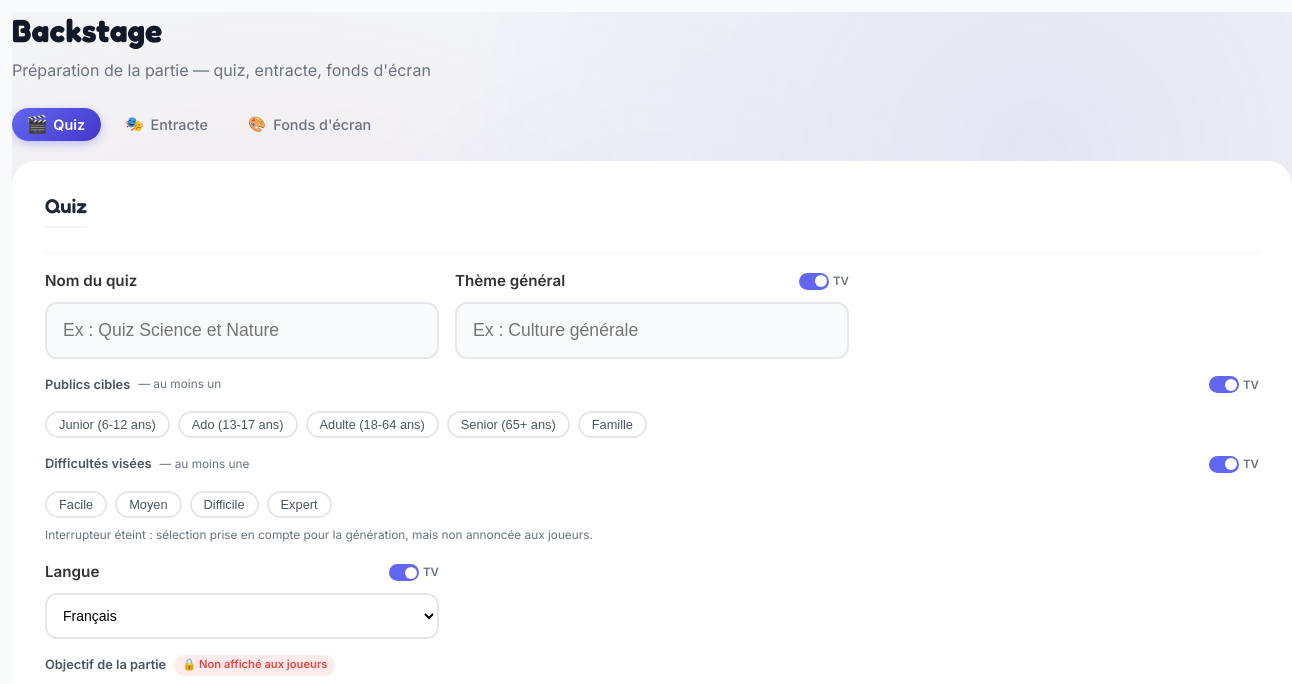
it: BackstagePage — onglet Entracte : animation ANIM_INTENSITY=0 (non-régression) › affiche "animation desactivee" à intensité 0 (repris tel quel de la section retirée de ConfigPage)
Click the tab "🎭 Entracte" at point(167, 125), box [109,108,224,141]
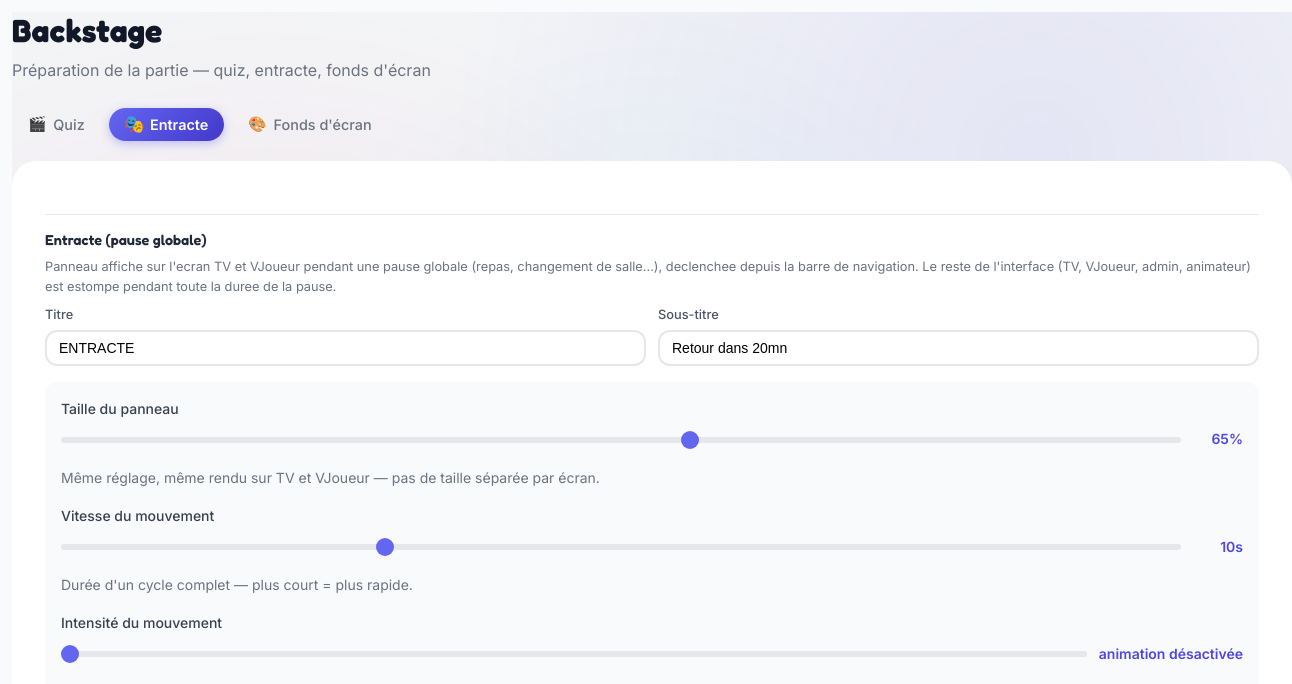
Expected: the text "animation désactivée" is shown, [1099,643,1243,665]
